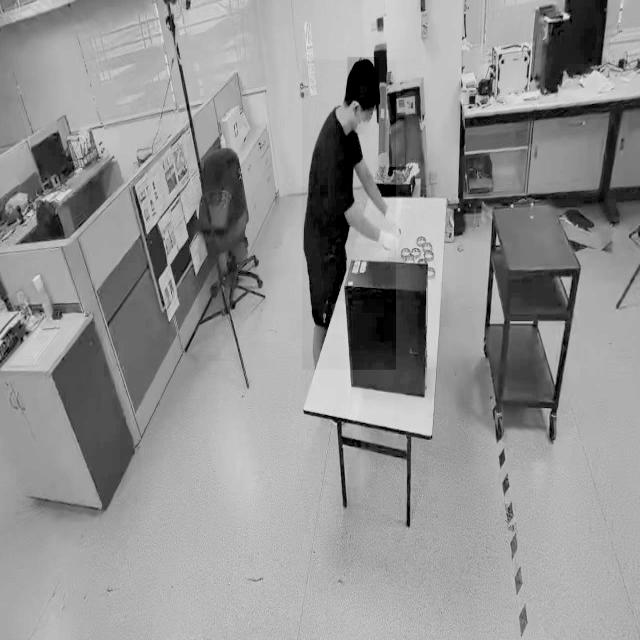hand_glove: (382, 196, 406, 239), (374, 230, 398, 258)
head_nohelmet: (347, 57, 379, 86)
person: (302, 59, 396, 370)
